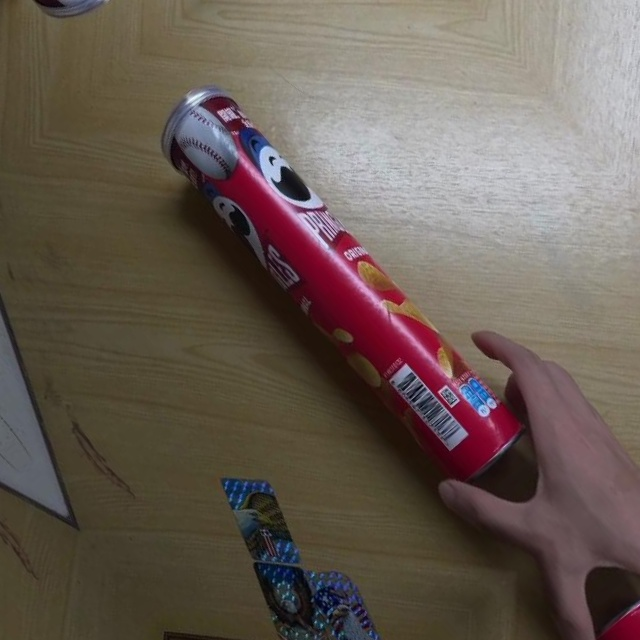Pringles: (142, 66, 532, 502)
